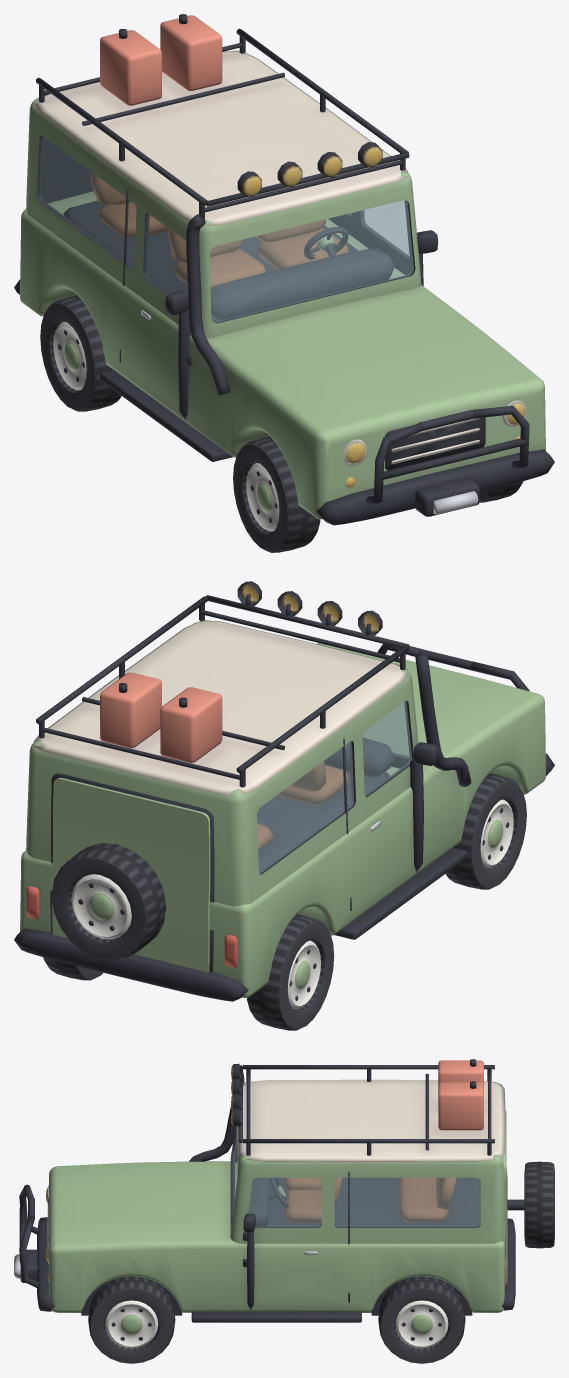
The model's file is off-road-4x4.glb.
3 renders of one model, top to bottom at view 1: azimuth 30°, elevation 25°; view 2: azimuth 150°, elevation 25°; view 3: azimuth 270°, elevation 25°, orthographic. The views are drawn at different scales.
Visible parts, largest first — view 1: off-road-4x4_body, off-road-4x4_windows, off-road-4x4_rear_door; view 2: off-road-4x4_body, off-road-4x4_rear_door, off-road-4x4_windows; view 3: off-road-4x4_body, off-road-4x4_rear_door, off-road-4x4_windows.
Part boxes in pixels (box(x1,y1,x2,y2)): off-road-4x4_body: box(14, 14, 554, 525); off-road-4x4_windows: box(39, 136, 413, 322); off-road-4x4_rear_door: box(40, 295, 523, 552); off-road-4x4_body: box(14, 581, 554, 1001); off-road-4x4_rear_door: box(43, 773, 526, 1030); off-road-4x4_windows: box(257, 701, 411, 873); off-road-4x4_body: box(14, 1059, 515, 1322); off-road-4x4_rear_door: box(88, 1111, 554, 1363); off-road-4x4_windows: box(233, 1130, 480, 1226).
Size of the model in its own units: 2.15 by 2.53 by 4.96.
6 materials, 2 textured.
